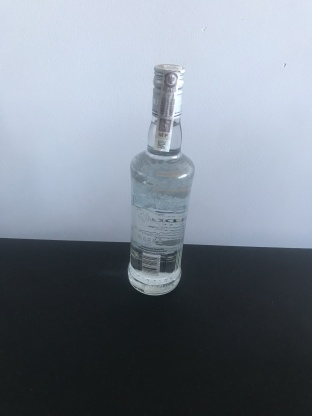nakretka: (149, 56, 187, 121)
